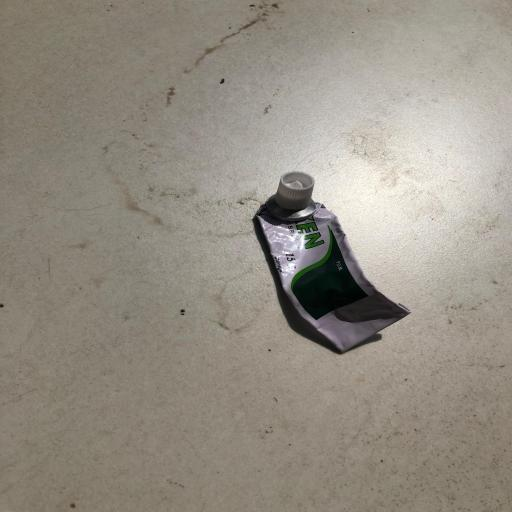waste: (240, 162, 440, 363)
